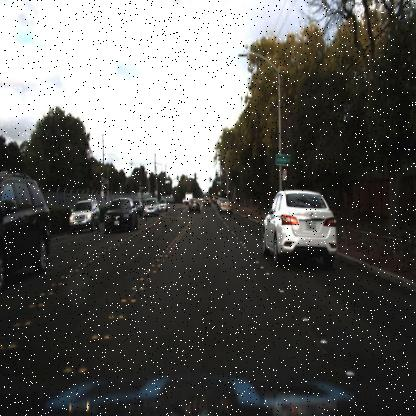car: (259, 182, 339, 272), (1, 167, 52, 290), (63, 190, 104, 242), (100, 193, 138, 235), (140, 194, 160, 221), (186, 194, 202, 217), (218, 198, 235, 216), (200, 194, 214, 210), (157, 199, 169, 214)
truck: (183, 189, 196, 207)
